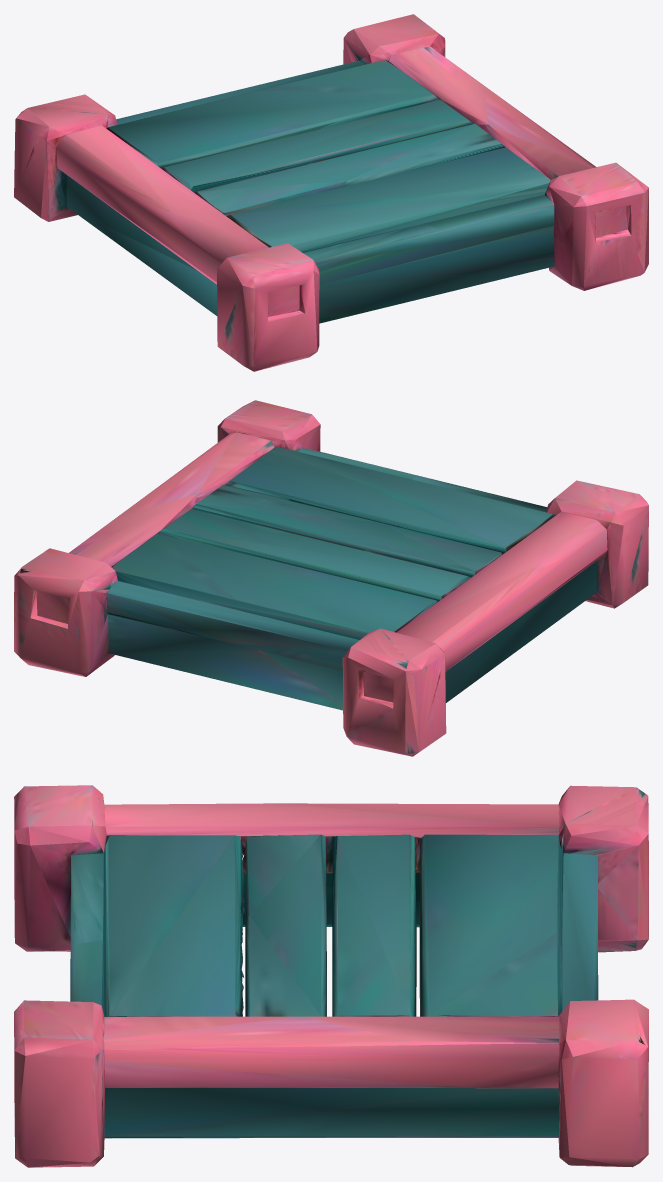
File: conveyer_art.glb
3 renders of one model, top to bottom at view 1: azimuth 30°, elevation 25°; view 2: azimuth 150°, elevation 25°; view 3: azimuth 270°, elevation 25°, orthographic. The views are drawn at different scales.
Parts seen in each view (by area): view 1: temp; view 2: temp; view 3: temp.
Boxes of the visible parts, x1,y1,x2,y2 form: temp: (14, 14, 648, 371); temp: (14, 400, 648, 756); temp: (14, 785, 648, 1167).
Size of the model in its own units: 1.98 by 0.4493 by 2.
1 material, 1 textured.
